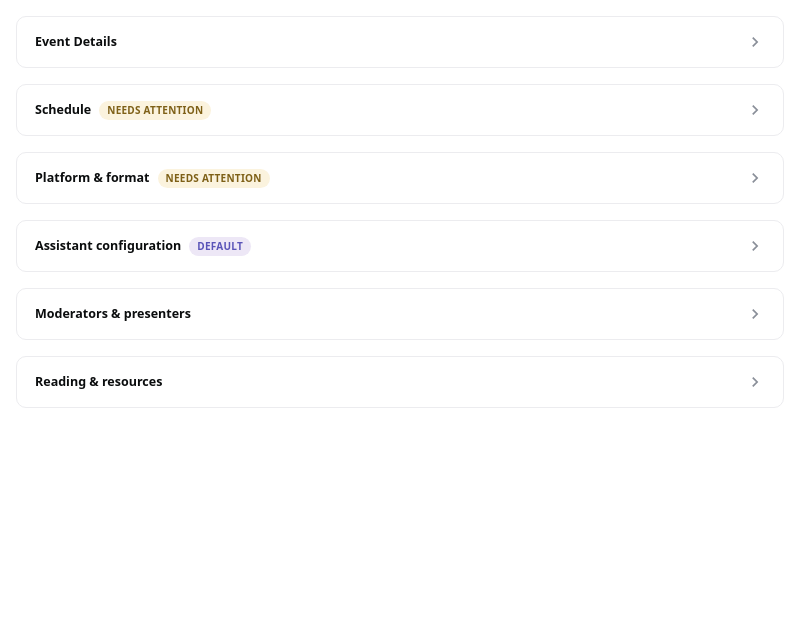
Test case: EventDetails › section headers › expands a section when its header is clicked
Expected: the text "A talk about robots." is not shown
Click the button "Event Details": (76, 41) x1=17 y1=17 x2=783 y2=67
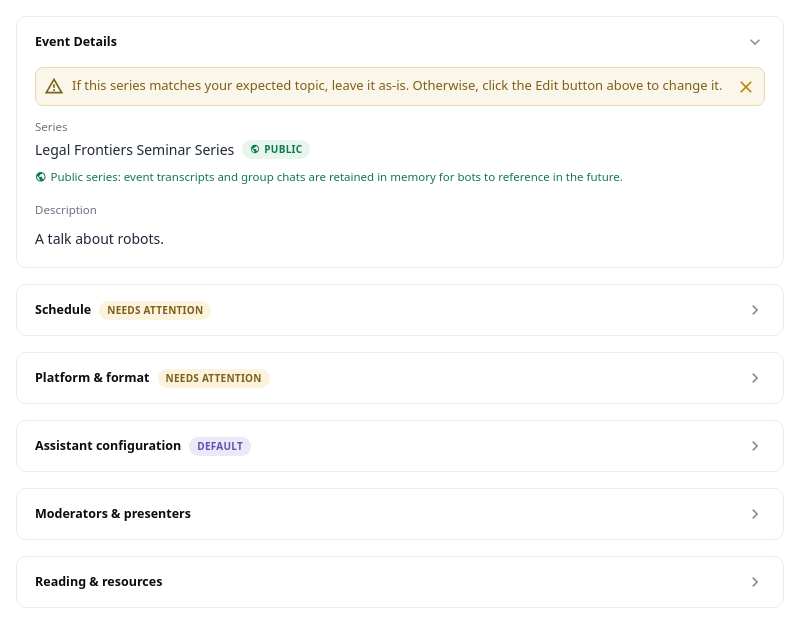
Expected: the text "A talk about robots." is shown, x1=35 y1=229 x2=164 y2=248
